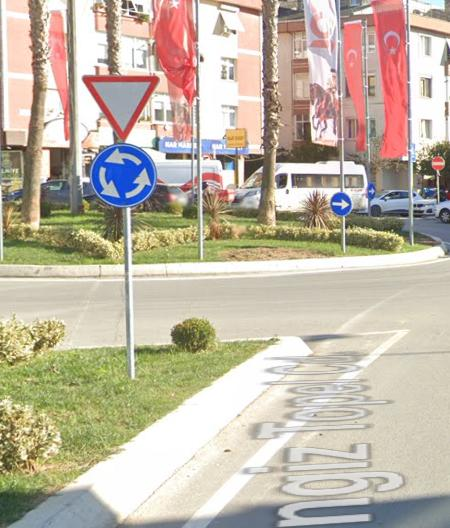crossroads: (95, 145, 153, 205)
turnright: (328, 192, 353, 218), (366, 185, 378, 199)
